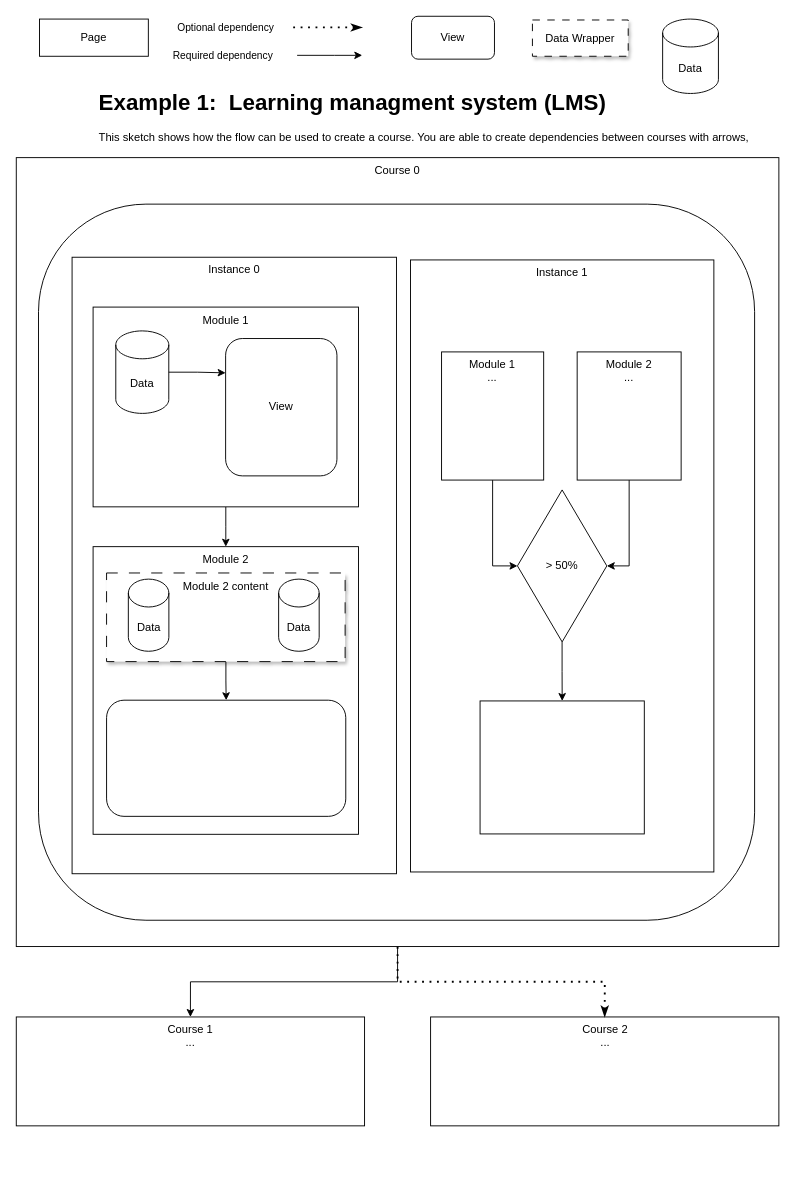
The diagram is 795 pixels wide and 1178 high, and some of its shapes have lost their labels. Here are the shapes that lost their labels. From the top down, the centre of each, then its label:
the point at 226,757: Module 2 view
the point at 561,767: Module 3 ...
